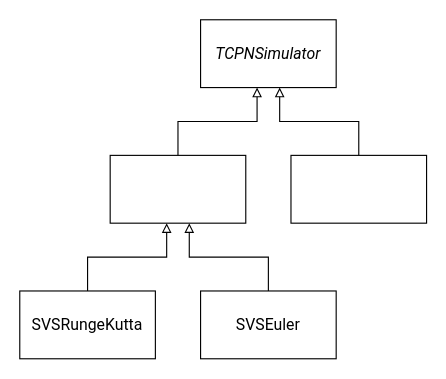
Image size: 446x379. Some labels were removed from this diagram. The centre of each missing label's shape, as x and y in pixels:
"SFixedStep" belongs at point (358, 188).
"SVariableStep" belongs at point (177, 188).
